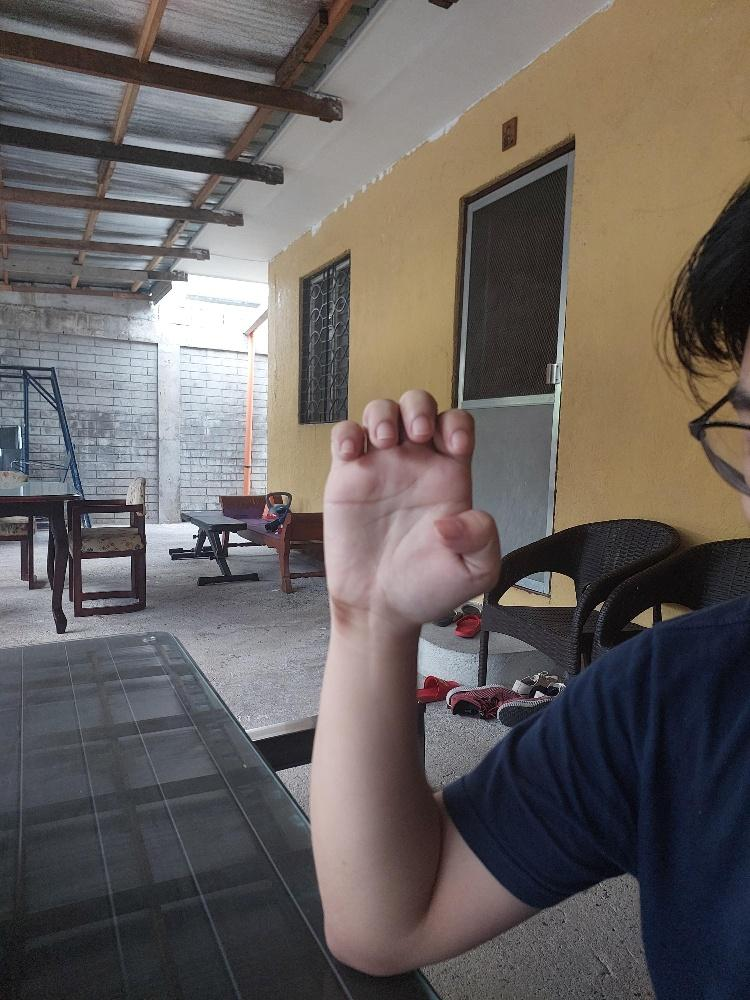e: (319, 383, 503, 630)
